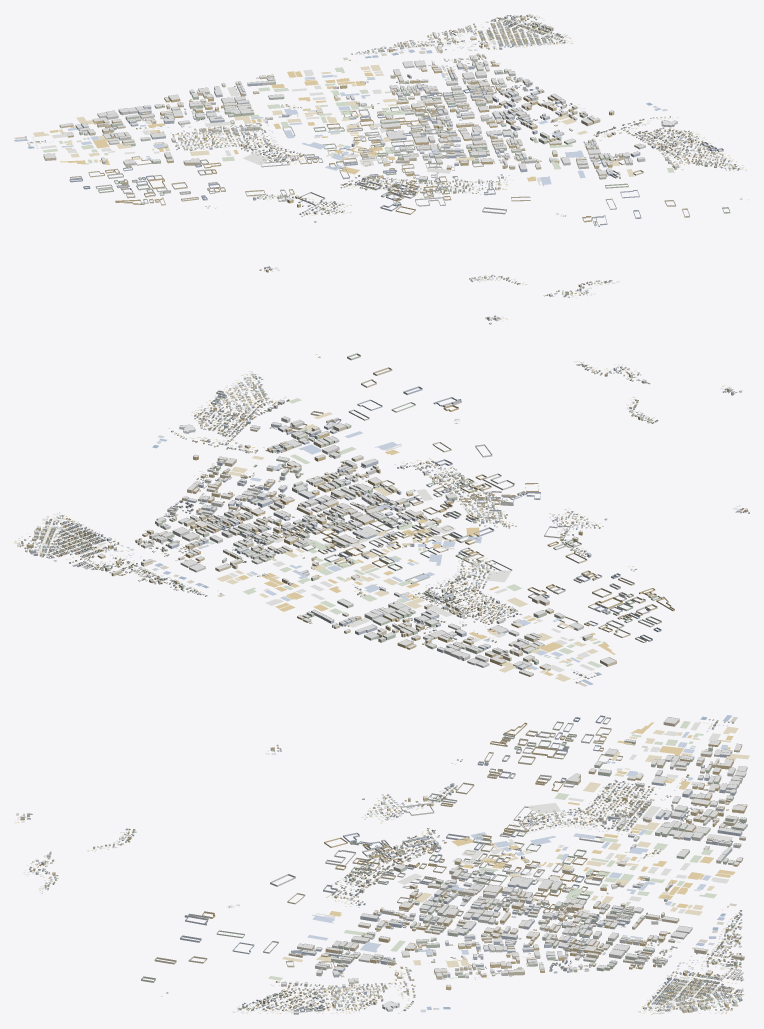
The picture shows the model from 3 angles, top to bottom: view 1: azimuth 30°, elevation 25°; view 2: azimuth 150°, elevation 25°; view 3: azimuth 270°, elevation 25°; orthographic projection. The views are drawn at different scales.
Parts seen in each view (by area): view 1: apartment, roof_zinc, roof_flat, factory, house; view 2: apartment, roof_zinc, roof_flat, factory, house; view 3: apartment, roof_flat, roof_zinc, factory, house.
Boxes of the visible parts, x1,y1,x2,y2 form: apartment: [43, 15, 717, 324]; roof_zinc: [14, 15, 749, 321]; roof_flat: [44, 15, 716, 323]; factory: [69, 83, 730, 226]; house: [25, 14, 742, 320]; apartment: [25, 368, 747, 676]; roof_zinc: [14, 354, 745, 686]; roof_flat: [25, 367, 747, 675]; factory: [173, 353, 674, 642]; house: [17, 356, 749, 683]; apartment: [16, 717, 747, 1013]; roof_flat: [16, 717, 747, 1010]; roof_zinc: [14, 715, 749, 1014]; factory: [141, 715, 622, 1014]; house: [20, 718, 744, 1011].
Bounding box in the file's own units: 1.4e+08 × 725349 × 1.46e+08.
